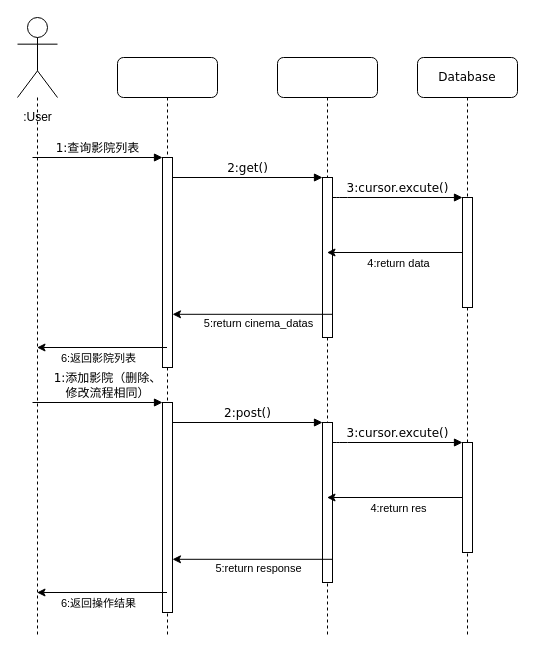
This 535x655 diagram has some shape labels left out. The centre of each missing label's shape, as x and y in pixels:
"Flask BackEnd" goes at (327,347).
"FrontEnd" goes at (167,347).
